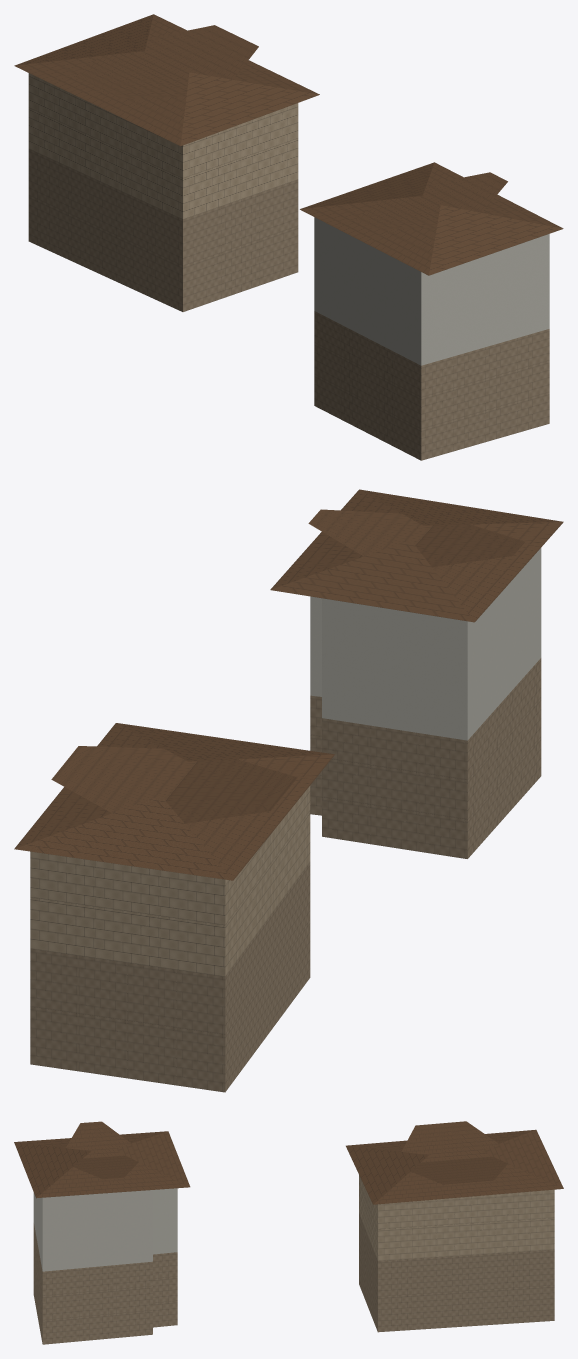
Rendered from bld_c32_47_247.gltf.
The picture shows the model from 3 angles, top to bottom: view 1: azimuth 30°, elevation 25°; view 2: azimuth 150°, elevation 25°; view 3: azimuth 270°, elevation 25°; orthographic projection. The views are drawn at different scales.
Parts seen in each view (by area): view 1: bld_c32_47_247; view 2: bld_c32_47_247; view 3: bld_c32_47_247.
Boxes of the visible parts, box(x1,y1,x2,y2) form: bld_c32_47_247: box(14, 14, 563, 460); bld_c32_47_247: box(14, 489, 563, 1092); bld_c32_47_247: box(14, 1121, 563, 1344).
Bounding box in the file's own units: 12.61 × 11.5 × 34.81.
Materials: 4 (4 with a texture image).
